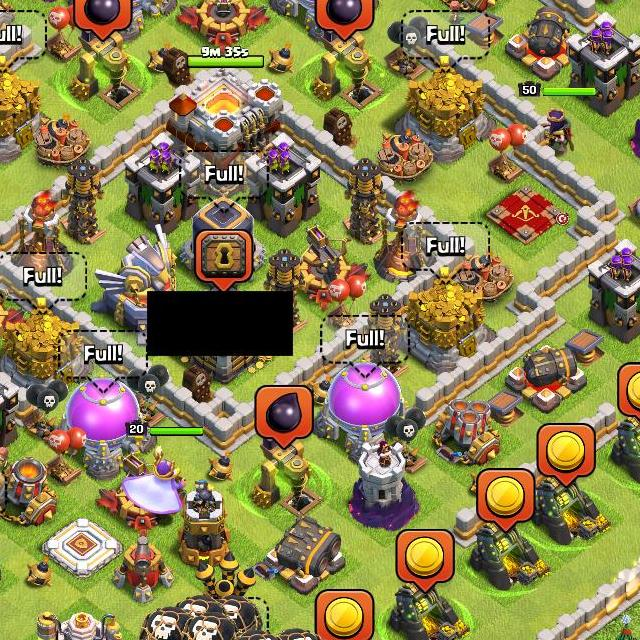FullCoin: (476, 468, 536, 536), (537, 423, 595, 489), (397, 530, 454, 594), (315, 589, 373, 640), (619, 362, 640, 428)
FullElixirNegro: (257, 386, 315, 451), (316, 1, 376, 41), (73, 1, 134, 40)
